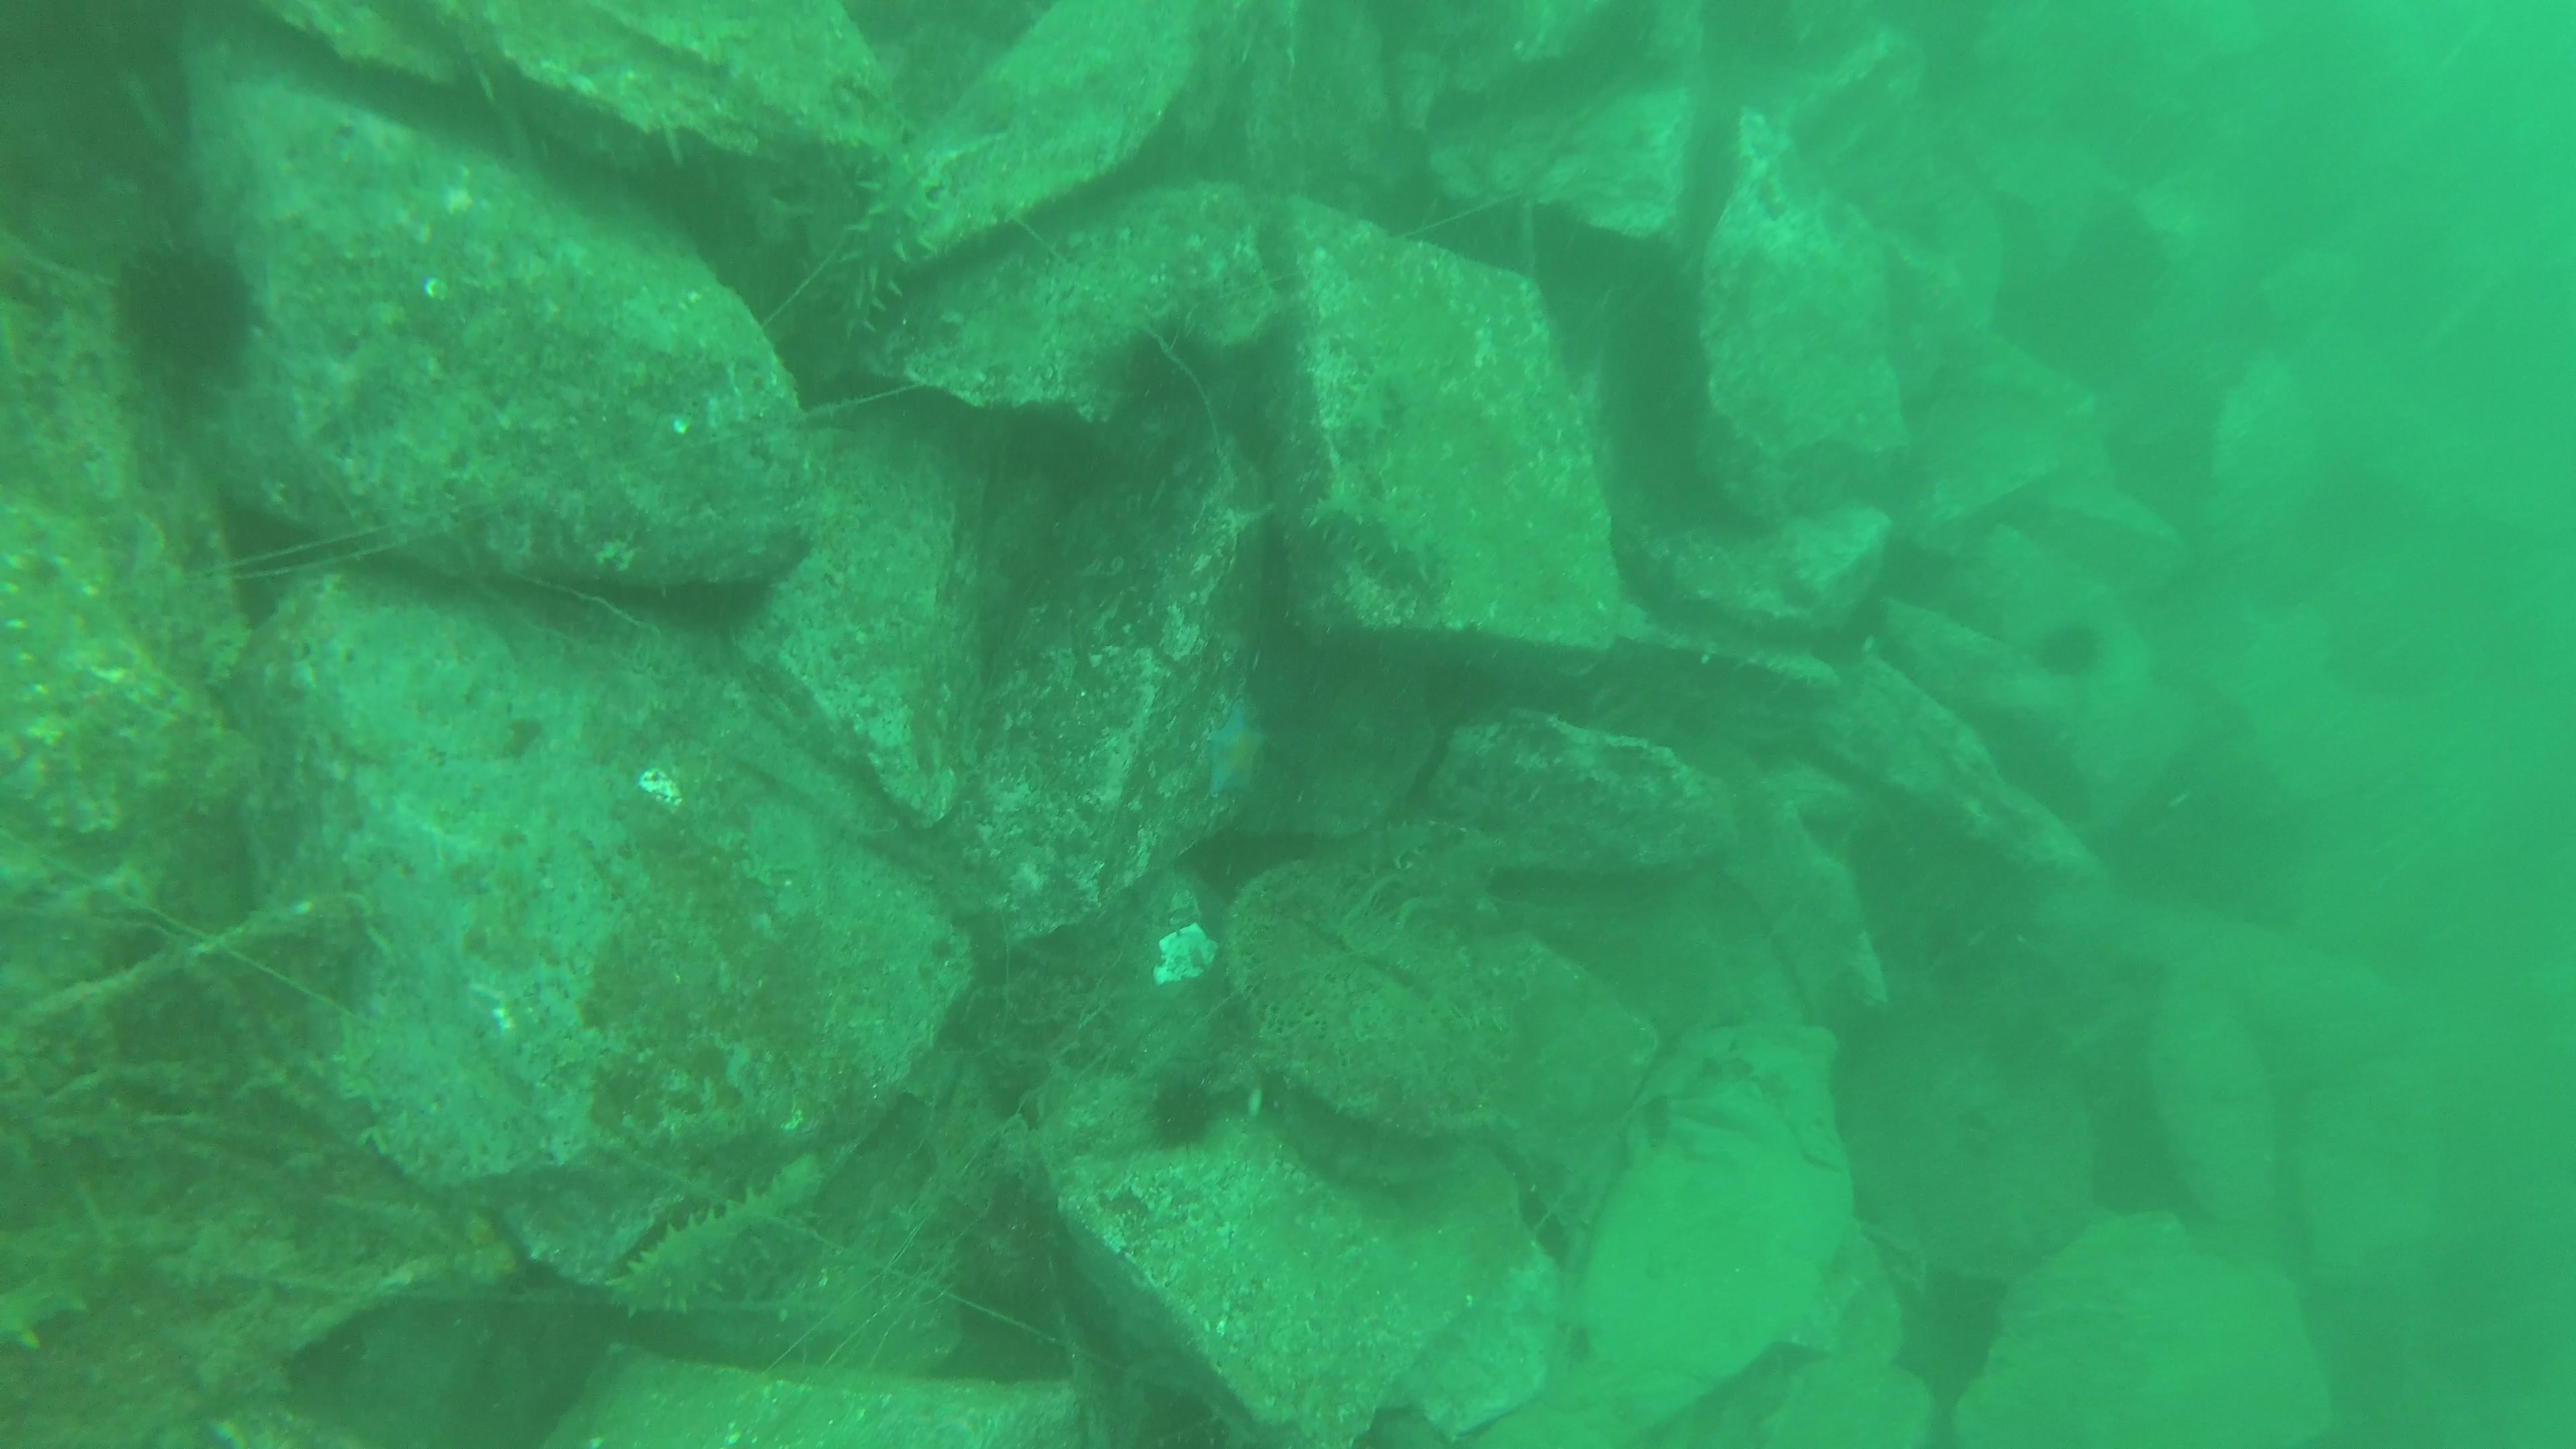echinus: (94, 237, 280, 393), (1118, 322, 1224, 432), (2020, 607, 2118, 697), (1145, 1063, 1228, 1155)
holothurian: (589, 1155, 833, 1329), (830, 131, 957, 361), (1307, 479, 1456, 610)
starfish: (1196, 688, 1279, 816)
